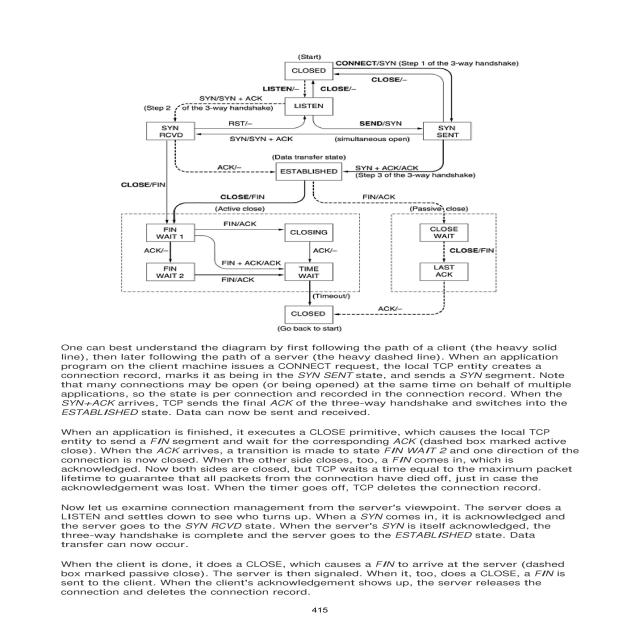diagram: (85, 29, 532, 338)
